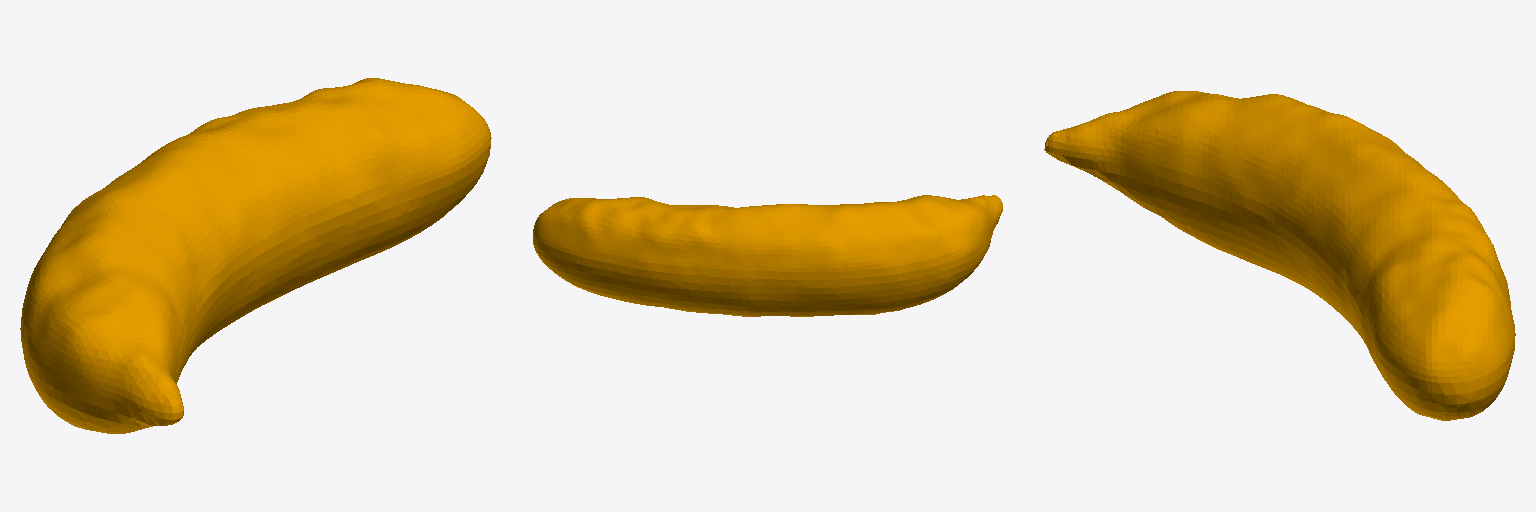
URDF robot description (011_banana):
<?xml version="1.0"?>
<robot name="011_banana">
  <link name="base_link">
    <inertial>
      <origin xyz="0.008823 -0.001157 0.016870" rpy="0 0 0" />
      <mass value="0.230992" />
      <inertia ixx="0.00017108" ixy="-0.00019525" ixz="0.00000203"
               iyy="0.00041729" iyz="-0.00000010" izz="0.00053686" />
    </inertial>
    <visual>
      <geometry><mesh filename="011_banana.stl" scale="1.0 1.0 1.0" /></geometry>
    </visual>
    <collision>
      <geometry><mesh filename="011_banana_col.obj" scale="1.0 1.0 1.0" /></geometry>
    </collision>
    <contact>
      <lateral_friction value="1.0"/>
    </contact>
  </link>
</robot>

--- What the picture shows (computed from the rendered views, not written in the file) ---
Views: 3 orthographic renders of the robot side by side, from view 1: azimuth 30°, elevation 25°; view 2: azimuth 150°, elevation 25°; view 3: azimuth 270°, elevation 25°.
Model 011_banana with 1 links and 0 joints (none), rooted at base_link, posed every joint at zero.
Visible links, largest first — view 1: base_link; view 2: base_link; view 3: base_link.
Link boxes in pixels (bbox=[...]): base_link: bbox=[20, 78, 491, 433]; base_link: bbox=[533, 195, 1002, 316]; base_link: bbox=[1044, 91, 1515, 420].
Bounding box of the posed robot: 0.1612 × 0.1251 × 0.0473 m (x, y, z).
Meshes: 1 distinct files referenced, 1 mesh visuals loaded (1 binary STL).
